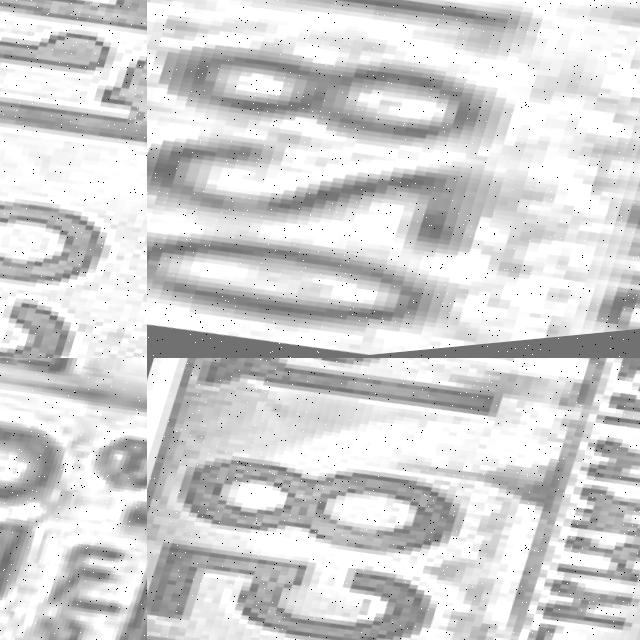license-plate: (147, 0, 640, 358), (147, 358, 640, 640), (0, 0, 147, 358), (0, 358, 147, 640)
